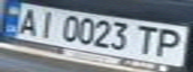0: (57, 12, 81, 44), (75, 15, 96, 47)
2: (90, 17, 115, 51)
3: (109, 19, 133, 53)
A: (12, 6, 42, 36)
I: (33, 8, 60, 39)
P: (151, 26, 190, 59)
T: (130, 22, 163, 56)
